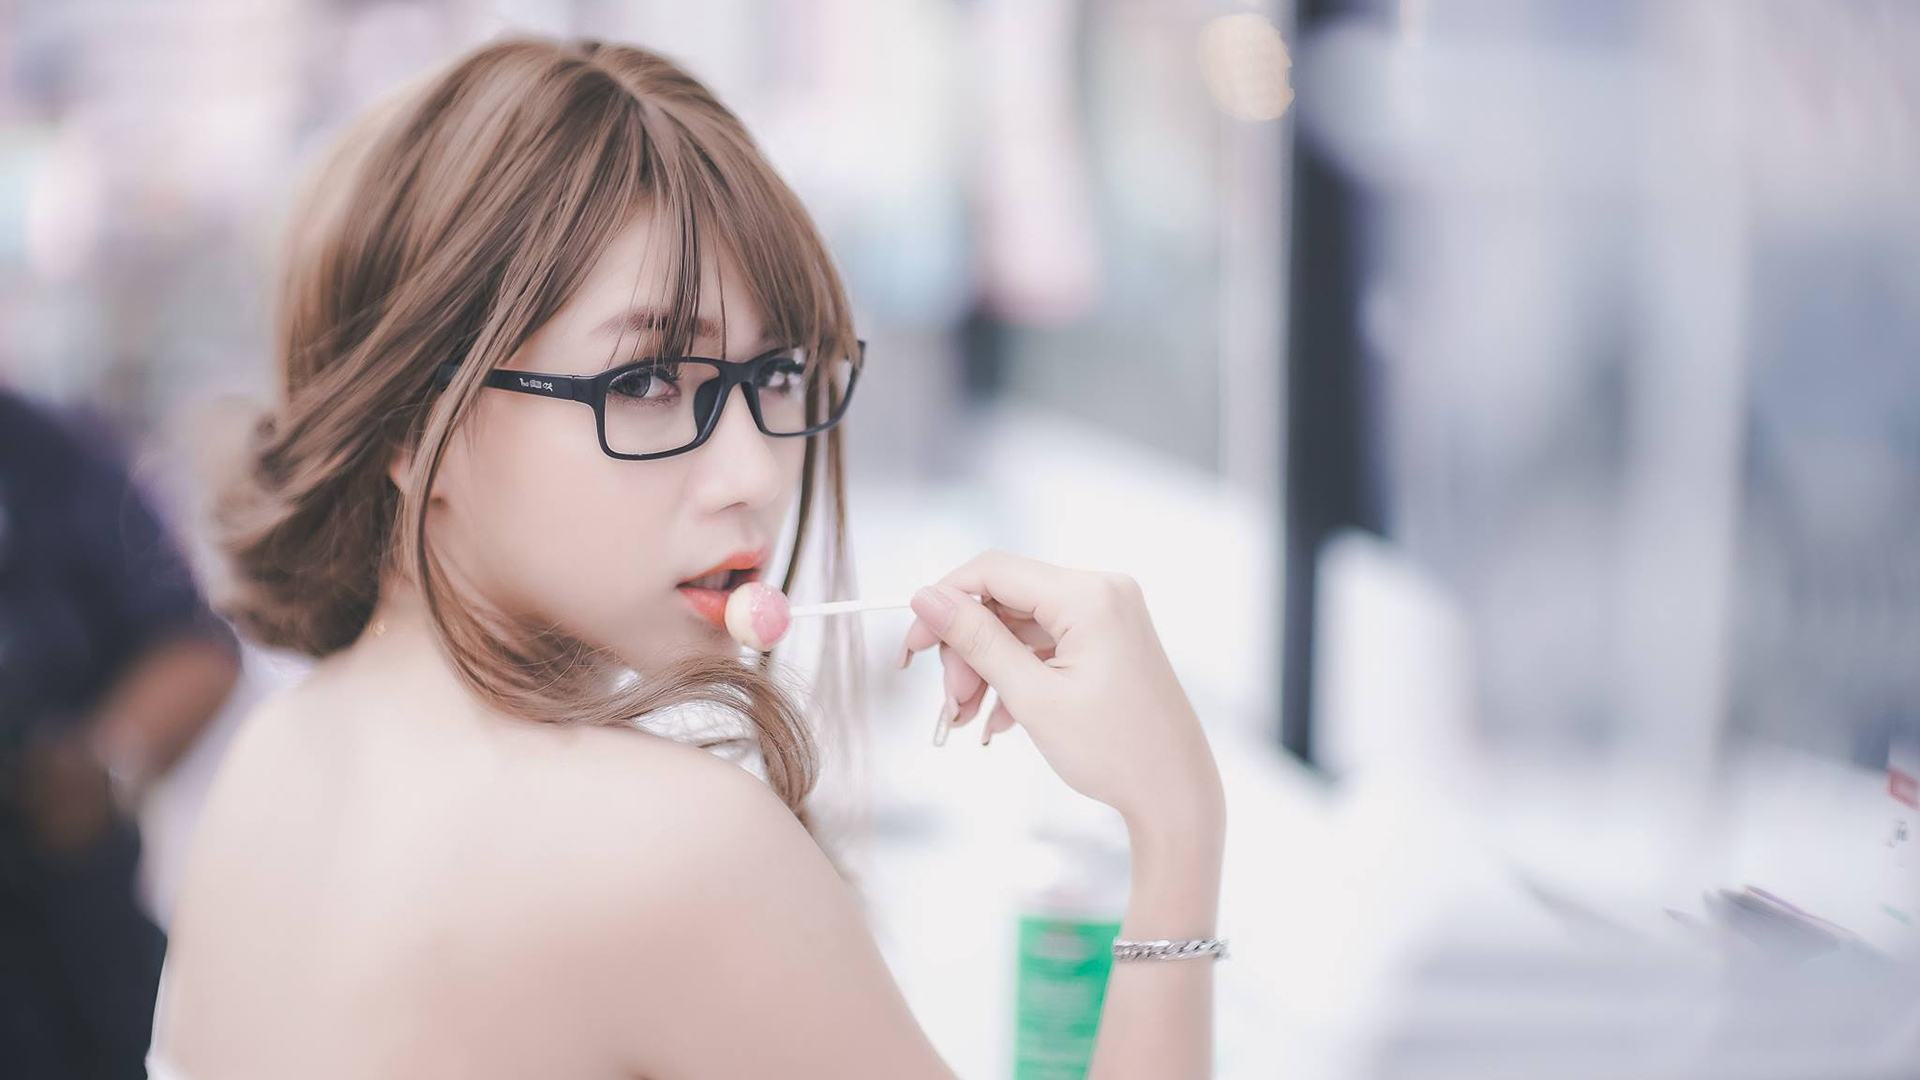person: (125, 59, 1133, 1080)
